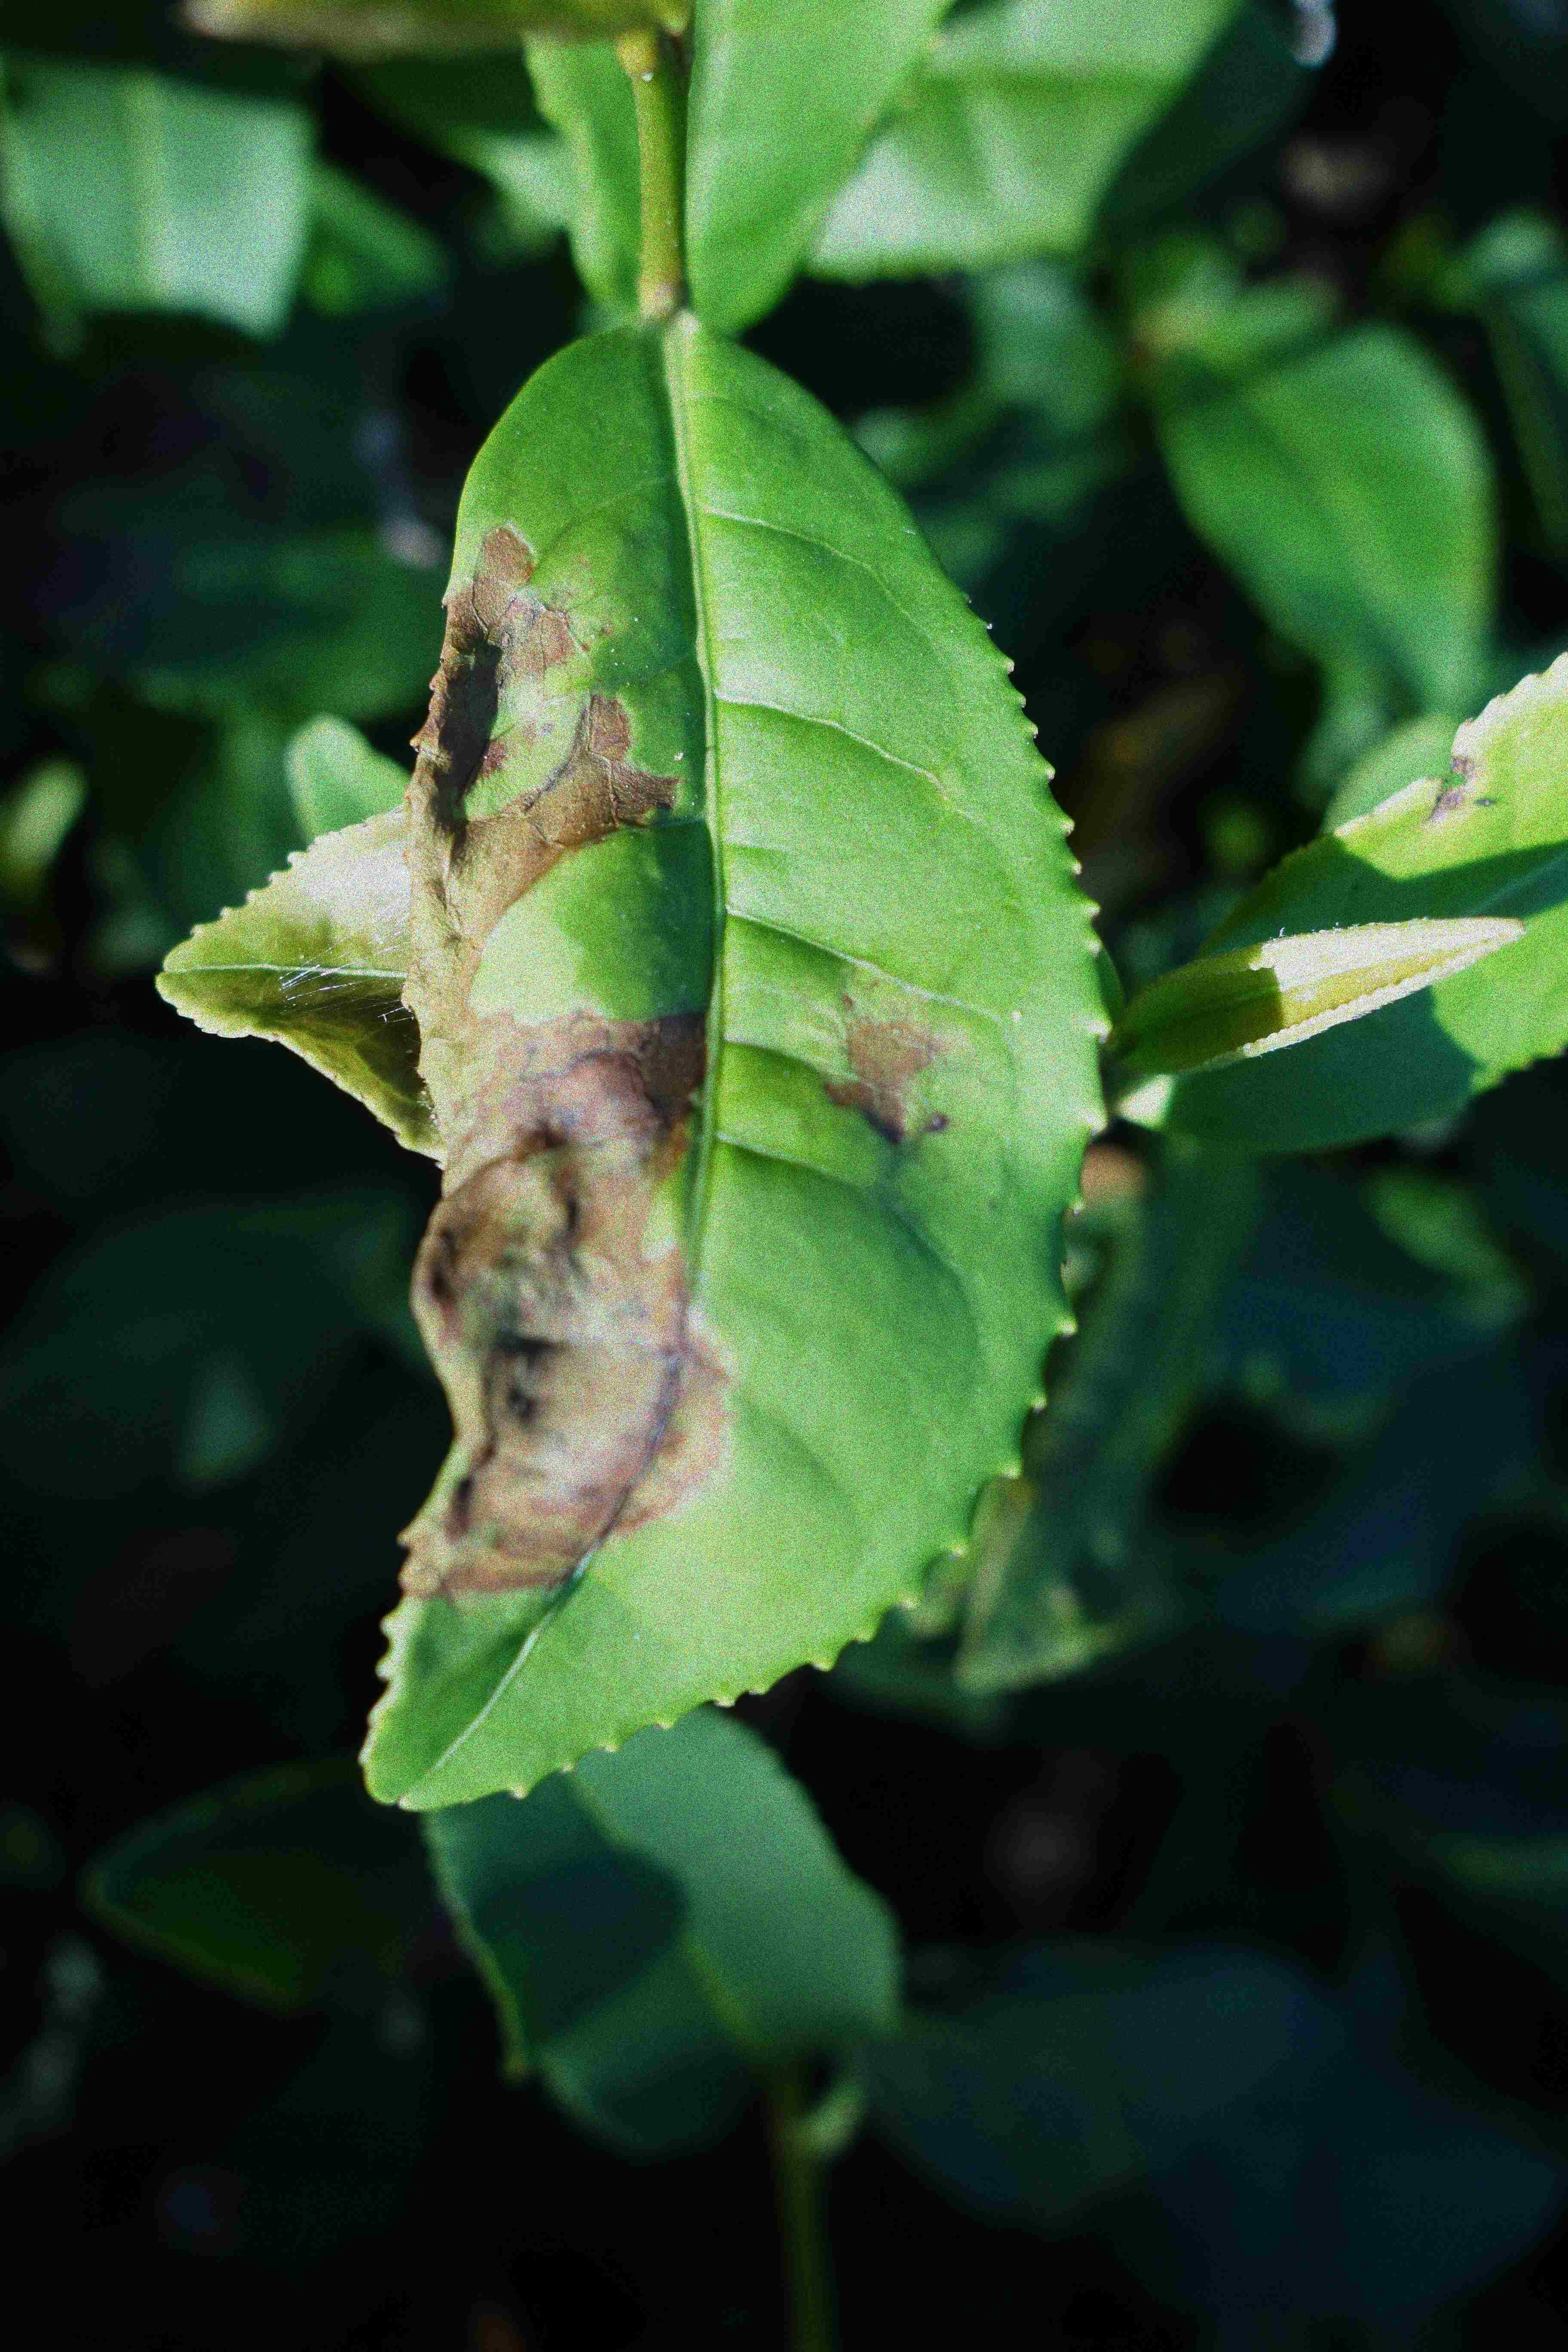tanju_high: (359, 308, 1123, 1811)
